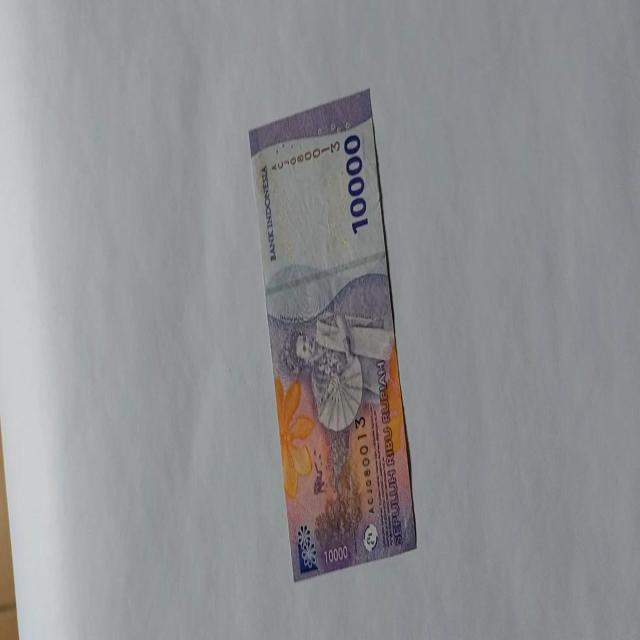Kertas: (247, 86, 417, 582)
